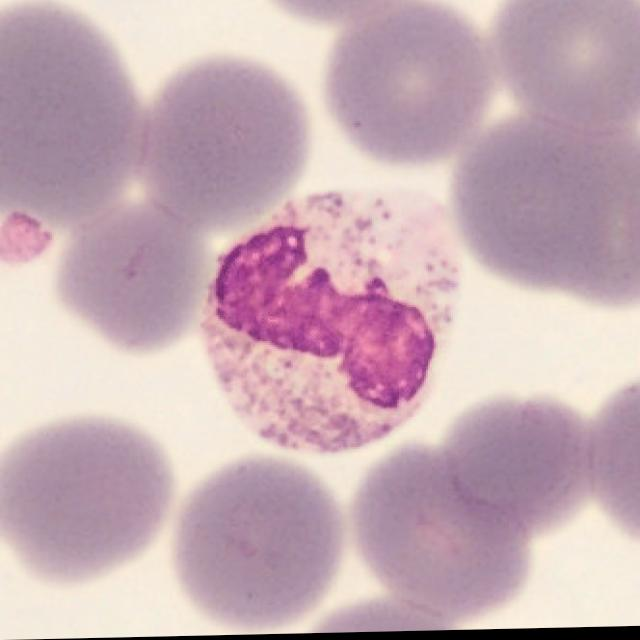Bastonete: (200, 189, 465, 459)
